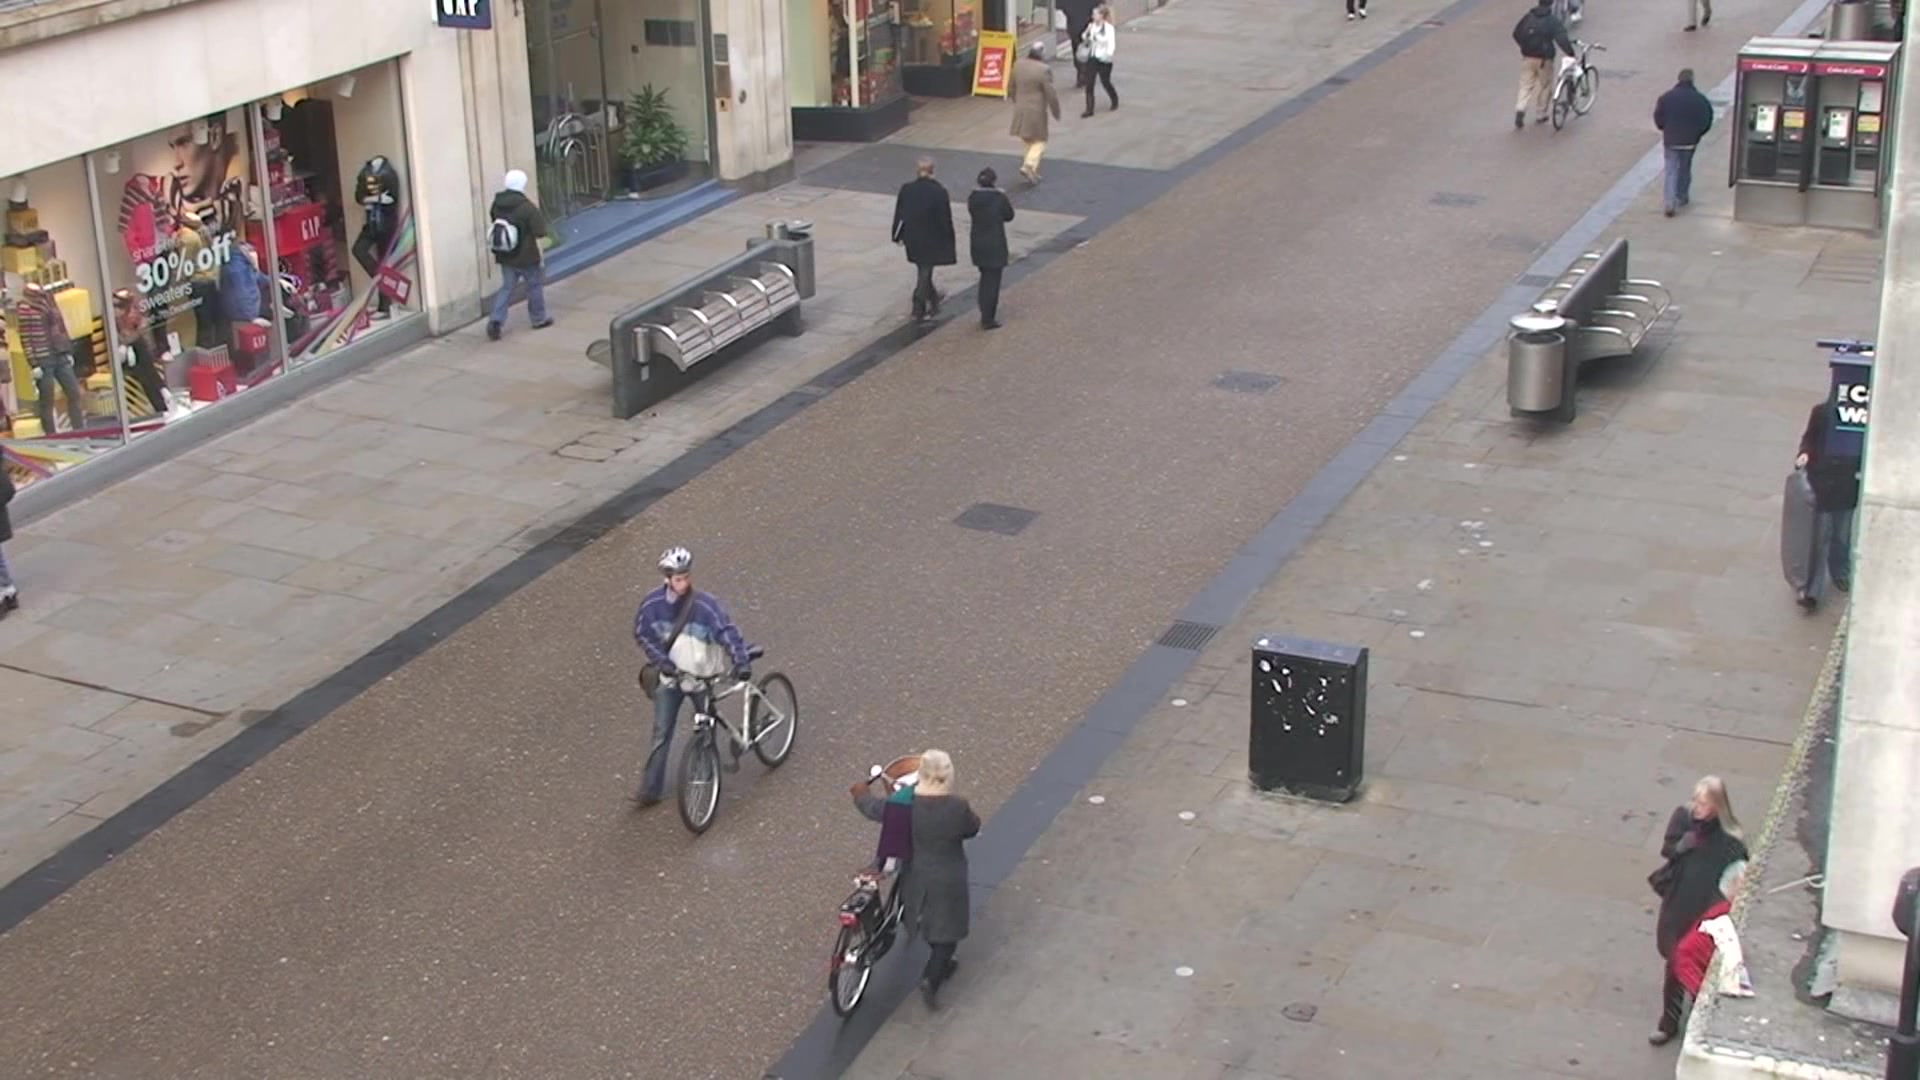person: (851, 748, 984, 1015), (625, 545, 752, 808), (1647, 775, 1752, 1057), (486, 170, 556, 340), (895, 154, 959, 325), (1655, 69, 1714, 217), (1006, 42, 1065, 184), (966, 169, 1016, 334), (1074, 1, 1121, 120)
